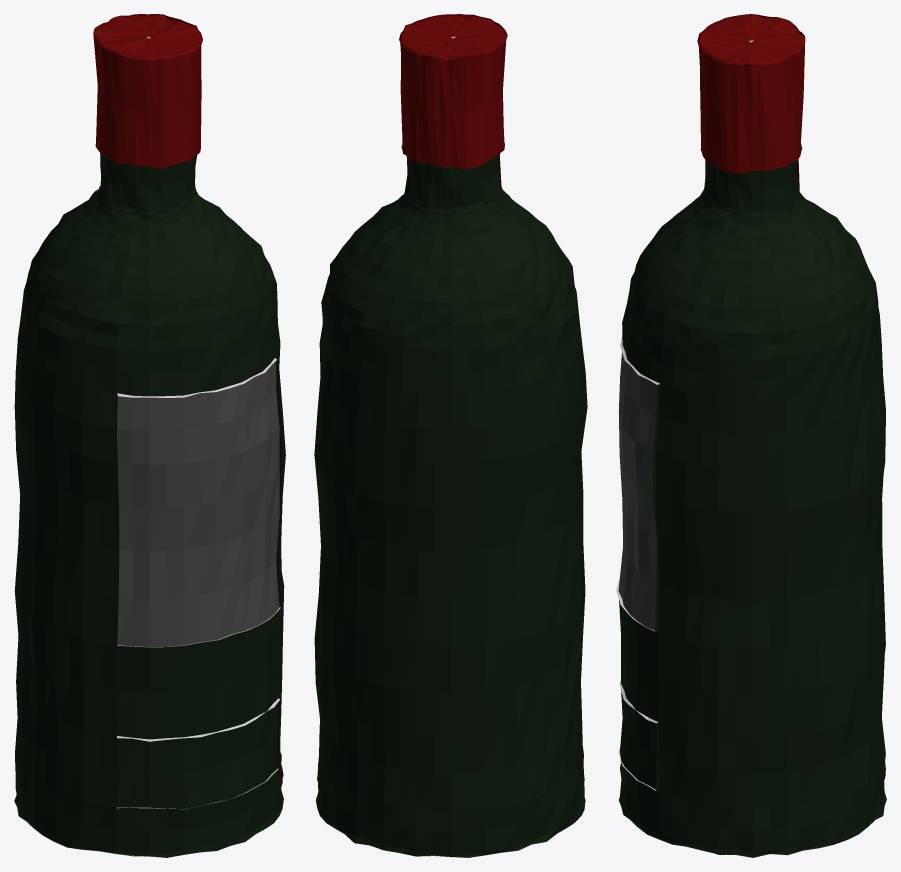
Rendered from crush_low_0.obj.
3 renders of one model, left to right at view 1: azimuth 30°, elevation 25°; view 2: azimuth 150°, elevation 25°; view 3: azimuth 270°, elevation 25°, orthographic.
Parts seen in each view (by area): view 1: model; view 2: model; view 3: model.
Boxes of the visible parts, <box> form: model: <box>14,14,285,857</box>; model: <box>314,14,587,857</box>; model: <box>616,14,886,857</box>.
Bounding box in the file's own units: 0.0651 × 0.2045 × 0.0657.
1 material, 1 textured.
